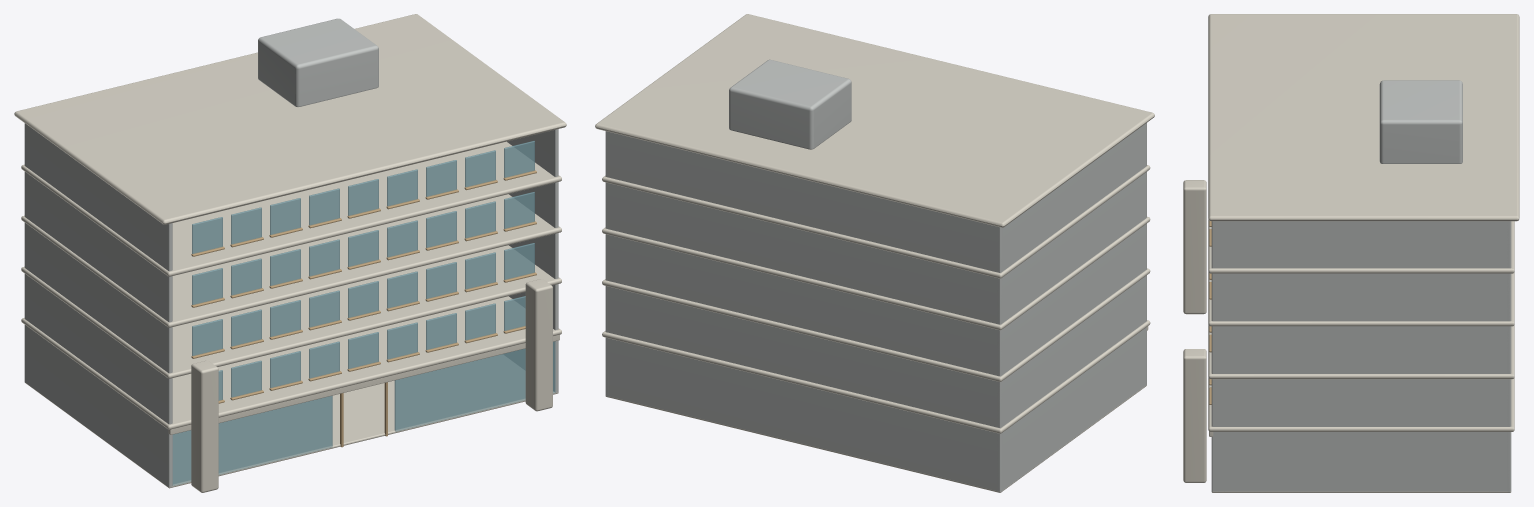
File: express-hotel.glb
3 views of the same model, side by side, from view 1: azimuth 30°, elevation 25°; view 2: azimuth 150°, elevation 25°; view 3: azimuth 270°, elevation 25° (orthographic). The views are drawn at different scales.
Parts seen in each view (by area): view 1: facility textured limestone, facility warm architectural concrete, facility real building glazing, facility brushed bronze; view 2: facility warm architectural concrete, facility textured limestone; view 3: facility warm architectural concrete, facility textured limestone.
Part boxes in pixels (x1,y1,x2,y2): facility textured limestone: (14,14,566,492); facility warm architectural concrete: (24,18,558,487); facility real building glazing: (172,141,555,485); facility brushed bronze: (191,170,536,447); facility warm architectural concrete: (605,59,1146,492); facility textured limestone: (595,14,1154,492); facility warm architectural concrete: (1211,80,1511,492); facility textured limestone: (1183,14,1519,492).
Size of the model in its own units: 29 by 21.4 by 20.2.
